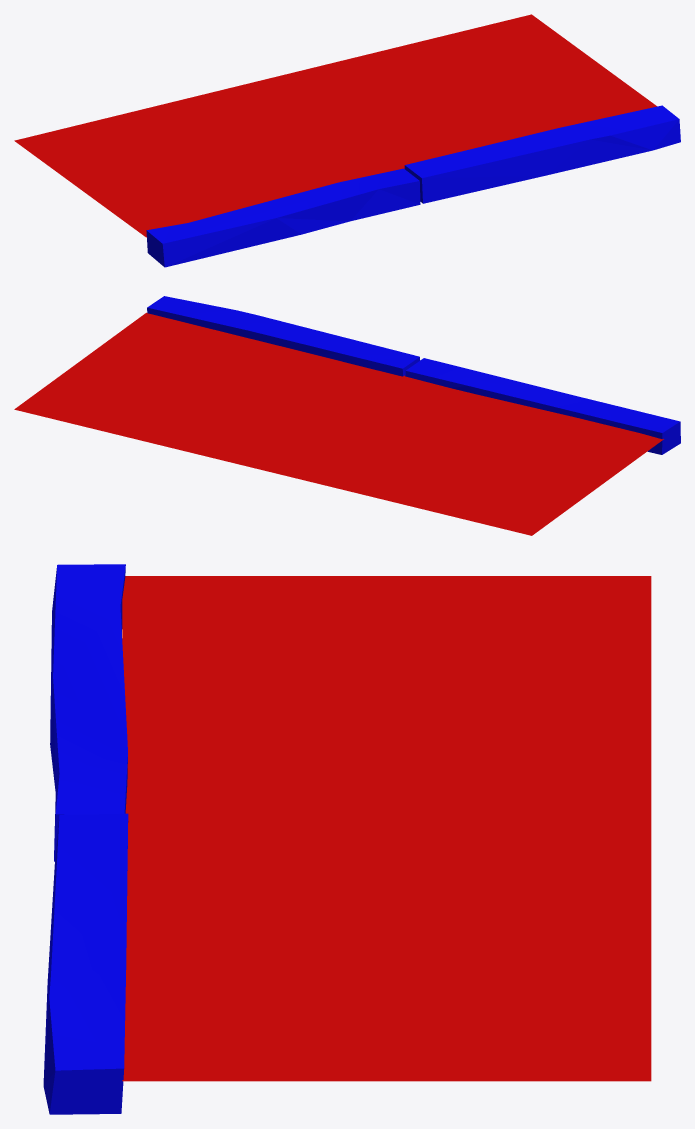
The model's file is Pavement_Straight.FBX.
3 renders of one model, top to bottom at view 1: azimuth 30°, elevation 25°; view 2: azimuth 150°, elevation 25°; view 3: azimuth 270°, elevation 25°, orthographic. The views are drawn at different scales.
Visible parts, largest first — view 1: Pavement_Straight; view 2: Pavement_Straight; view 3: Pavement_Straight.
Boxes of the visible parts, box(x1,y1,x2,y2) form: Pavement_Straight: box(14, 14, 680, 267); Pavement_Straight: box(14, 296, 680, 535); Pavement_Straight: box(43, 564, 651, 1114).
Bounding box in the file's own units: 5.12 × 0.2651 × 2.6.
